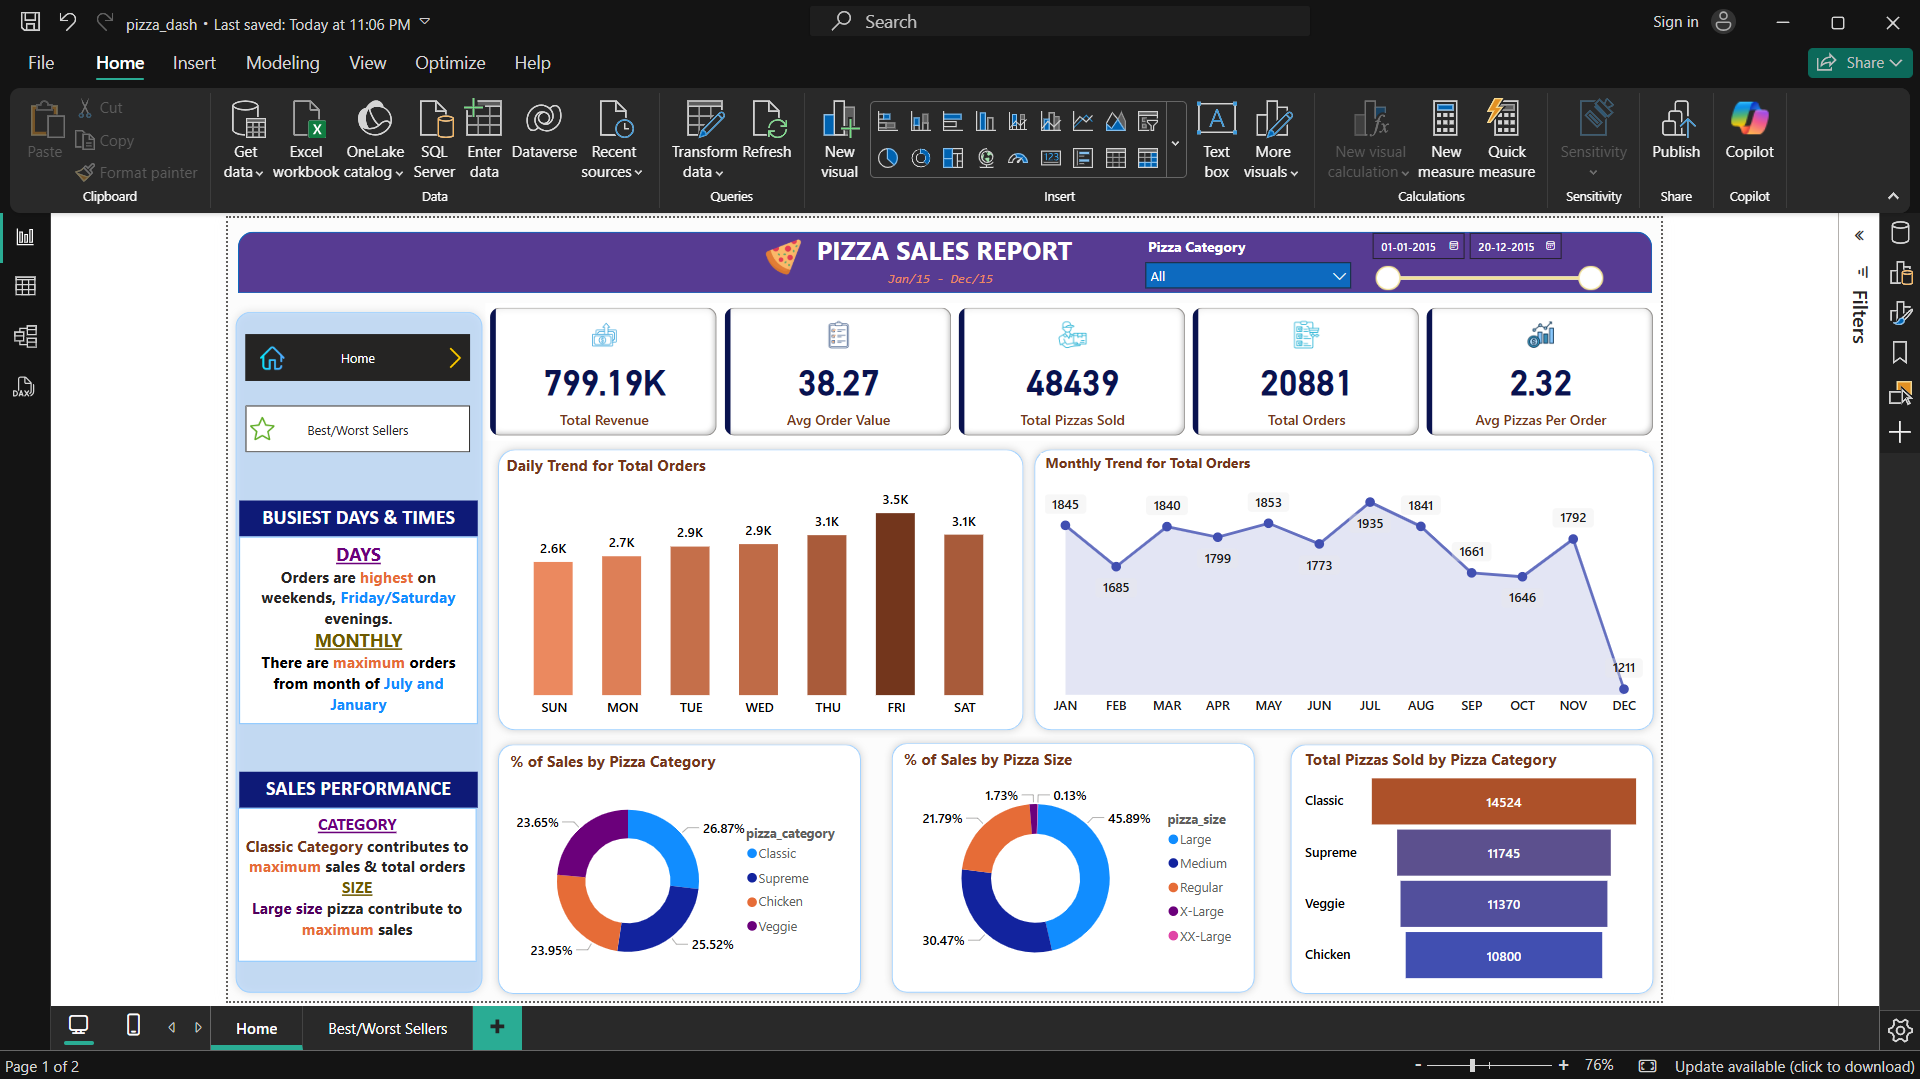

Layout of this report page (visuals, bound fields, positions):
{"tool":"powerbi","page":{"name":"Home","canvas":[1500,820],"ordinal":0},"visuals":[{"type":"cardVisual","fields":{"Data":["pizza_sales.Total Revenue","pizza_sales.Avg Order Value","pizza_sales.Total Pizzas Sold","pizza_sales.Total Orders","pizza_sales.Avg Pizzas Per Order"]},"box":[270,88.6,1230,144.3],"z":0},{"type":"shape","box":[10,14.3,1480,64.3],"z":1000},{"type":"textbox","box":[605.7,10,288.6,51.4],"z":2000},{"type":"textbox","box":[685.4,47.8,123.6,28.1],"z":3000},{"type":"image","box":[557.1,10,48.6,61.4],"z":4000},{"type":"shape","box":[274.3,234.3,565.7,310],"z":5000},{"type":"columnChart","title":"Daily Trend for Total Orders","fields":{"Category":["pizza_sales.Order Day"],"Y":["pizza_sales.Total Orders"]},"box":[287.1,247.1,540,284.3],"z":6000},{"type":"shape","box":[835.7,234.3,664.3,310],"z":7000},{"type":"areaChart","title":"Monthly Trend for Total Orders","fields":{"Y":["pizza_sales.Total Orders"],"Category":["pizza_sales.Order Month"]},"box":[850,245.7,637.1,284.3],"z":8000},{"type":"shape","box":[274.3,542.9,395.7,277.1],"z":9000},{"type":"shape","box":[687.1,541.4,395.7,277.1],"z":10000},{"type":"shape","box":[1104.3,542.9,395.7,277.1],"z":11000},{"type":"shape","box":[0,90,274.3,728.6],"z":12000},{"type":"donutChart","title":"% of Sales by Pizza Category","fields":{"Category":["pizza_sales.pizza_category"],"Y":["pizza_sales.Total Revenue"]},"box":[290,557.1,365.7,251.4],"z":13000},{"type":"donutChart","title":"% of Sales by Pizza Size","fields":{"Y":["pizza_sales.Total Revenue"],"Category":["pizza_sales.pizza_size"]},"box":[702.9,554.3,365.7,251.4],"z":14000},{"type":"funnel","title":"Total Pizzas Sold by Pizza Category","fields":{"Category":["pizza_sales.pizza_category"],"Y":["pizza_sales.Total Pizzas Sold"]},"box":[1122.9,554.3,361.4,251.4],"z":15000},{"type":"textbox","box":[11.8,295.7,249.9,37.9],"z":16000},{"type":"textbox","box":[11.8,333.6,249.9,196.2],"z":17000},{"type":"textbox","box":[11.8,579.5,249.9,37.9],"z":18000},{"type":"textbox","box":[10.5,617.5,249.9,160.9],"z":19000},{"type":"slicer","fields":{"Values":["pizza_sales.pizza_category"]},"box":[950,14.3,235.7,60],"z":20000},{"type":"slicer","fields":{"Values":["pizza_sales.order_date"]},"box":[1185.3,5.2,268.2,70.6],"z":21000},{"type":"pageNavigator","box":[18.3,121.7,235.5,49.7],"z":22000},{"type":"pageNavigator","box":[18.3,196.2,235.5,49.7],"z":23000},{"type":"image","box":[222.4,130.8,31.4,31.4],"z":24000},{"type":"image","box":[28.8,128.2,35.3,36.6],"z":24001},{"type":"image","box":[18.3,198.9,35.3,43.2],"z":24002}]}

Visuals, with their boxes on the page's 1500x820 design canvas (x1, y1, x2, y2). These are canvas units, not pixel positions in the 1920x1079 screenshot, which may show the page scaled, cropped or inside an application window:
cardVisual - pizza_sales.Total Revenue x pizza_sales.Avg Order Value: pyautogui.locateOnScreen(270, 89, 1500, 233)
shape: pyautogui.locateOnScreen(10, 14, 1490, 79)
textbox: pyautogui.locateOnScreen(606, 10, 894, 61)
textbox: pyautogui.locateOnScreen(685, 48, 809, 76)
image: pyautogui.locateOnScreen(557, 10, 606, 71)
shape: pyautogui.locateOnScreen(274, 234, 840, 544)
"Daily Trend for Total Orders" columnChart: pyautogui.locateOnScreen(287, 247, 827, 531)
shape: pyautogui.locateOnScreen(836, 234, 1500, 544)
"Monthly Trend for Total Orders" areaChart: pyautogui.locateOnScreen(850, 246, 1487, 530)
shape: pyautogui.locateOnScreen(274, 543, 670, 820)
shape: pyautogui.locateOnScreen(687, 541, 1083, 818)
shape: pyautogui.locateOnScreen(1104, 543, 1500, 820)
shape: pyautogui.locateOnScreen(0, 90, 274, 819)
"% of Sales by Pizza Category" donutChart: pyautogui.locateOnScreen(290, 557, 656, 808)
"% of Sales by Pizza Size" donutChart: pyautogui.locateOnScreen(703, 554, 1069, 806)
"Total Pizzas Sold by Pizza Category" funnel: pyautogui.locateOnScreen(1123, 554, 1484, 806)
textbox: pyautogui.locateOnScreen(12, 296, 262, 334)
textbox: pyautogui.locateOnScreen(12, 334, 262, 530)
textbox: pyautogui.locateOnScreen(12, 580, 262, 617)
textbox: pyautogui.locateOnScreen(10, 618, 260, 778)
slicer - pizza_sales.pizza_category: pyautogui.locateOnScreen(950, 14, 1186, 74)
slicer - pizza_sales.order_date: pyautogui.locateOnScreen(1185, 5, 1454, 76)
pageNavigator: pyautogui.locateOnScreen(18, 122, 254, 171)
pageNavigator: pyautogui.locateOnScreen(18, 196, 254, 246)
image: pyautogui.locateOnScreen(222, 131, 254, 162)
image: pyautogui.locateOnScreen(29, 128, 64, 165)
image: pyautogui.locateOnScreen(18, 199, 54, 242)
